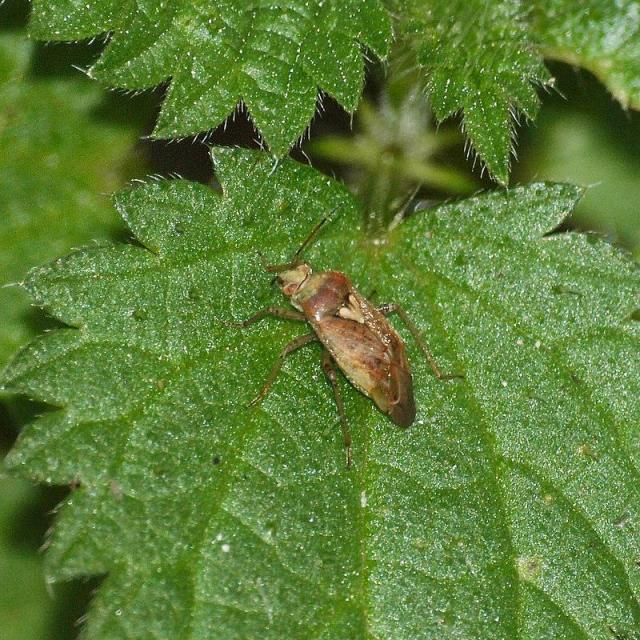Miridae-Adult-: (208, 207, 455, 443)
